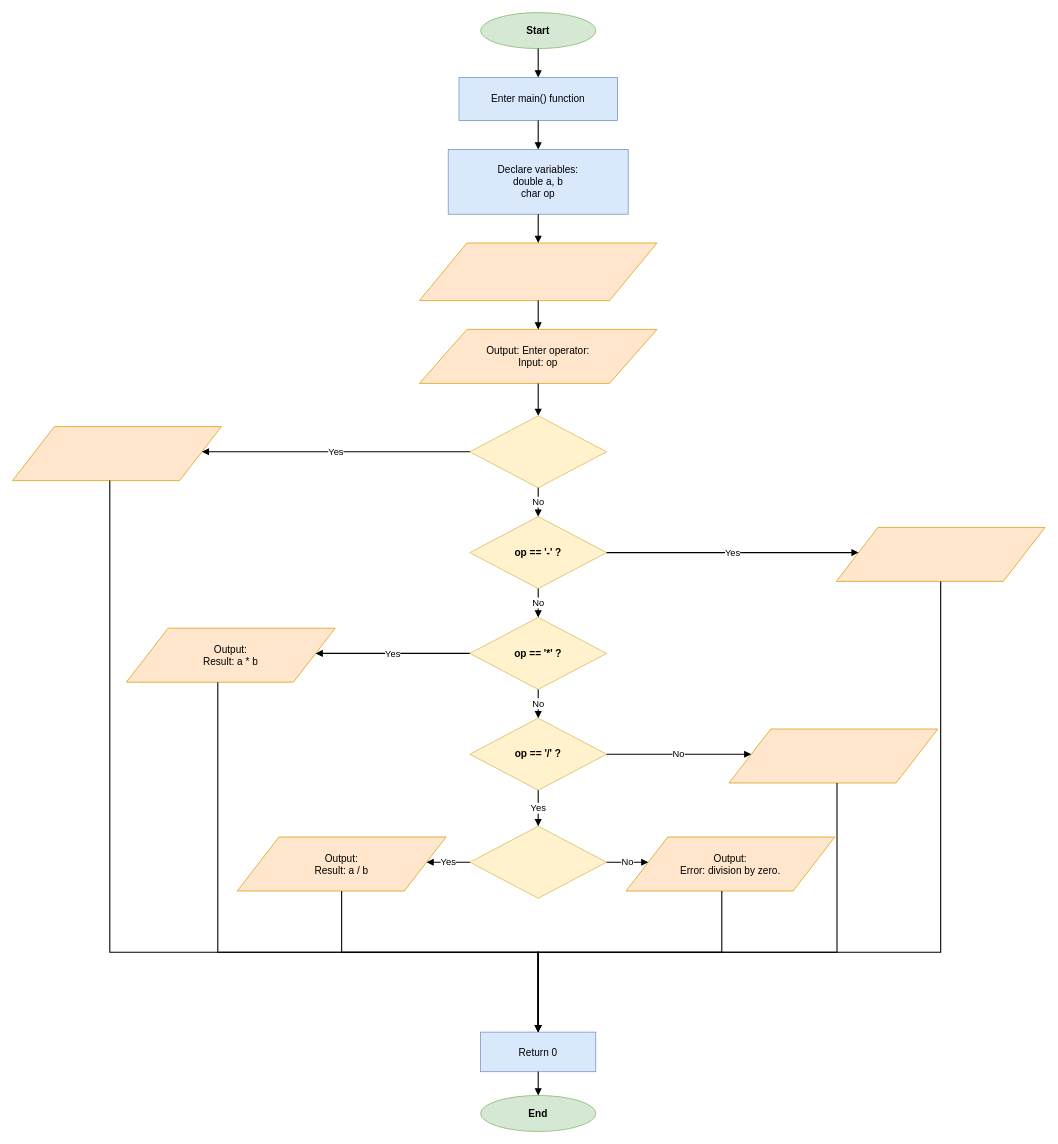
The diagram is 1058 pixels wide and 1144 high, and some of its shapes have lost their labels. Each missing label, with the centre of its shape:
b != 0 ?: (538,861)
op == '+' ?: (538,451)
Output: Enter two numbers: Input: a, b: (538,271)
Output: Invalid operator.: (833,755)
Output: Result: a + b: (116,453)
Output: Result: a - b: (940,554)
